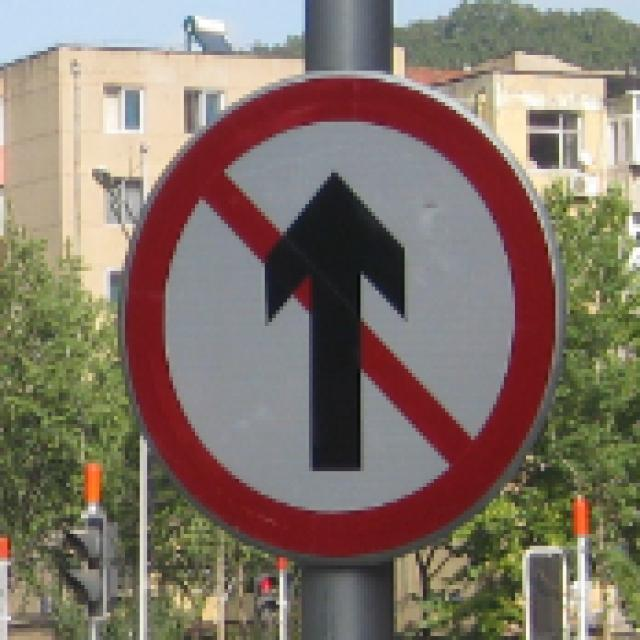Not that Direction: (113, 63, 557, 566)
